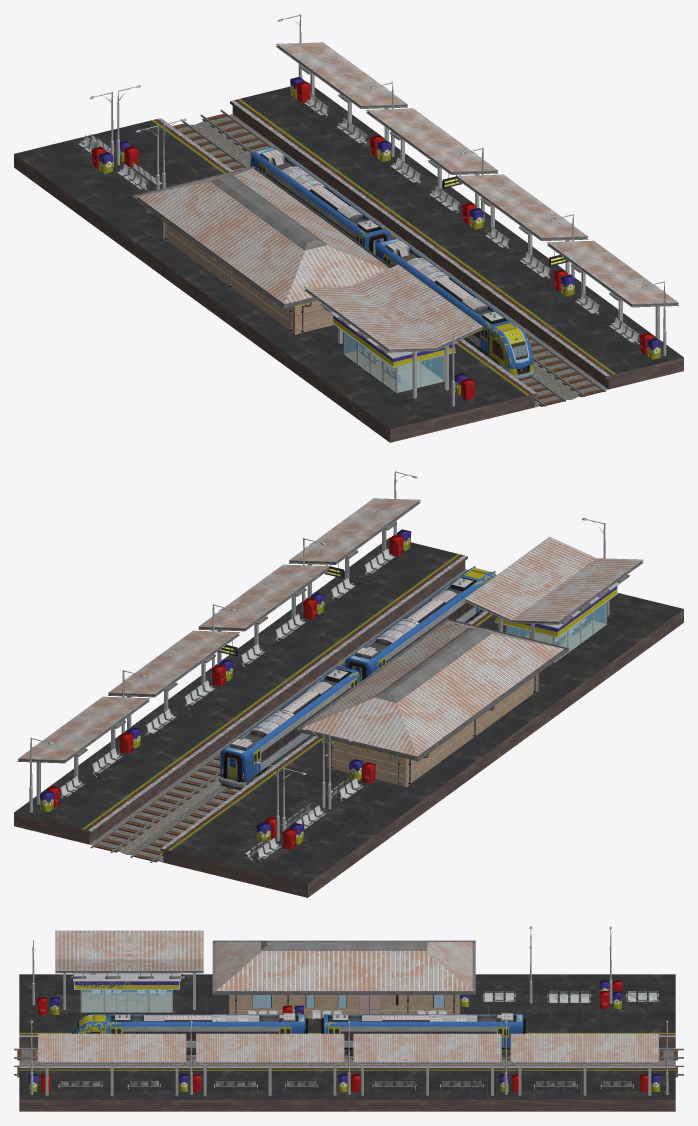
Rendered from train_ride.glb.
The picture shows the model from 3 angles, top to bottom: view 1: azimuth 30°, elevation 25°; view 2: azimuth 150°, elevation 25°; view 3: azimuth 270°, elevation 25°; orthographic projection. The views are drawn at different scales.
Parts seen in each view (by area): view 1: Back door fluff.001_Trim Material_0, Bacj wheel.001_Train Texture_0, Front lights_Seethrough_0; view 2: Back door fluff.001_Trim Material_0, Bacj wheel.001_Train Texture_0, Front lights_Seethrough_0; view 3: Back door fluff.001_Trim Material_0, Bacj wheel.001_Train Texture_0, Front lights_Seethrough_0.
Boxes of the visible parts, left/top/right/bottom form: Back door fluff.001_Trim Material_0: left=14, top=14, right=683, bottom=442; Bacj wheel.001_Train Texture_0: left=250, top=147, right=534, bottom=378; Front lights_Seethrough_0: left=345, top=333, right=532, bottom=391; Back door fluff.001_Trim Material_0: left=14, top=471, right=683, bottom=897; Bacj wheel.001_Train Texture_0: left=218, top=568, right=496, bottom=789; Front lights_Seethrough_0: left=507, top=603, right=605, bottom=661; Back door fluff.001_Trim Material_0: left=14, top=926, right=683, bottom=1111; Bacj wheel.001_Train Texture_0: left=71, top=1013, right=525, bottom=1057; Front lights_Seethrough_0: left=80, top=990, right=171, bottom=1025.
Size of the model in its own units: 38.55 by 10.97 by 85.58.
Materials: 4 (4 with a texture image).
